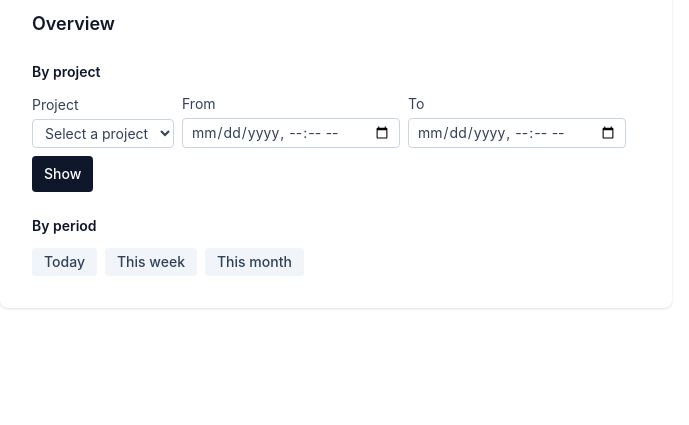
Overview › shows tasks and the total time for a chosen period
Click the button "Today".
click(64, 262)  # box [32, 248, 97, 276]
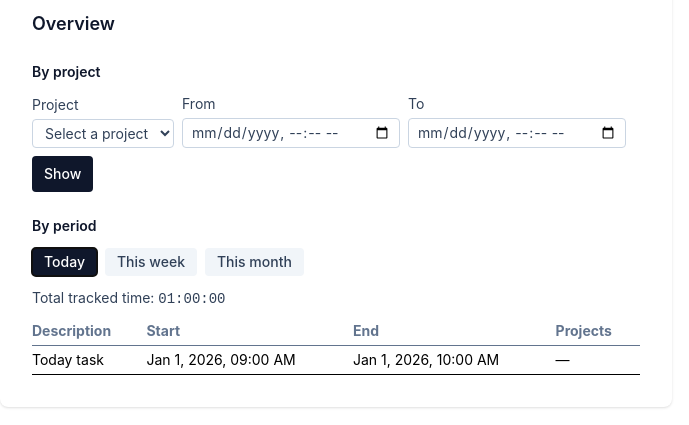
Check: the text "Today task" is shown, box [32, 346, 146, 374]
Check: the text "01:00:00" is shown, box [158, 291, 226, 307]
